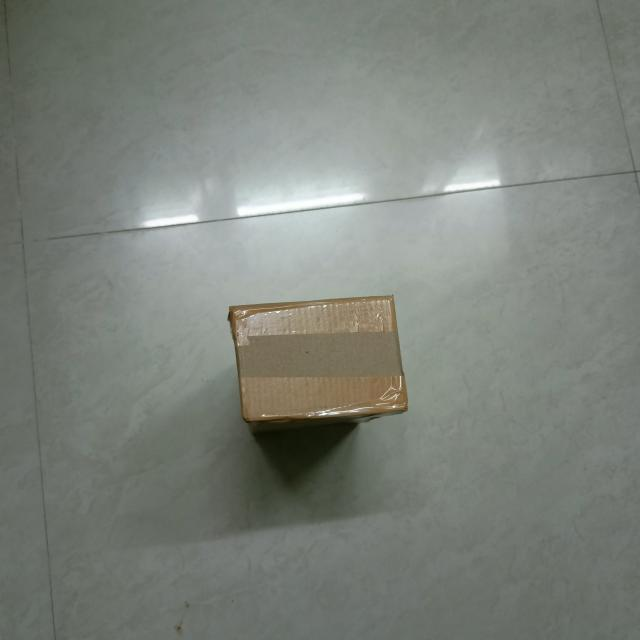box: (233, 299, 409, 417)
